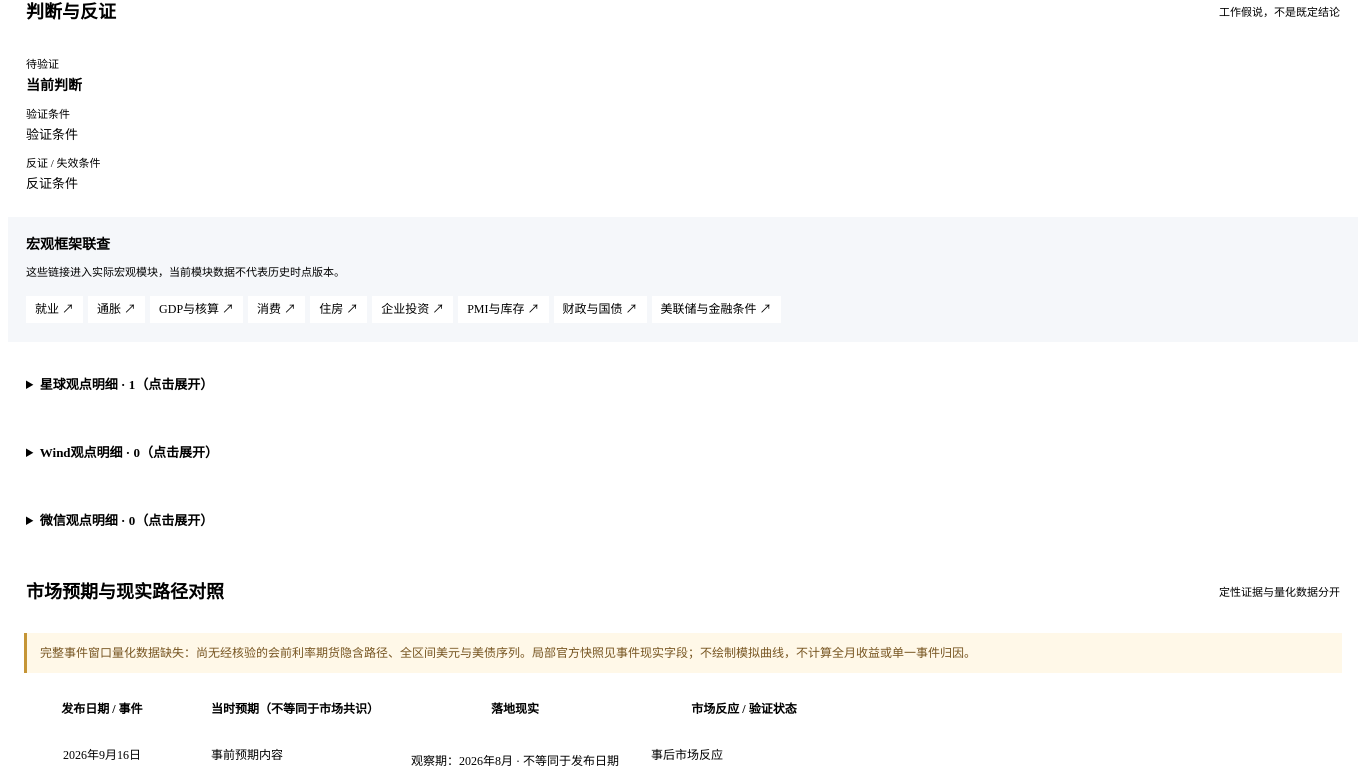
Test: 观点原始数值对象保留条件字段，不把条件情景对象写成确定预测
The width and height of the screenshot is (1366, 768).
(page scrolled)
Click the heading "星球观点明细 · 1（点击展开）" at (126, 384), box [40,377,213,392]
(page scrolled)
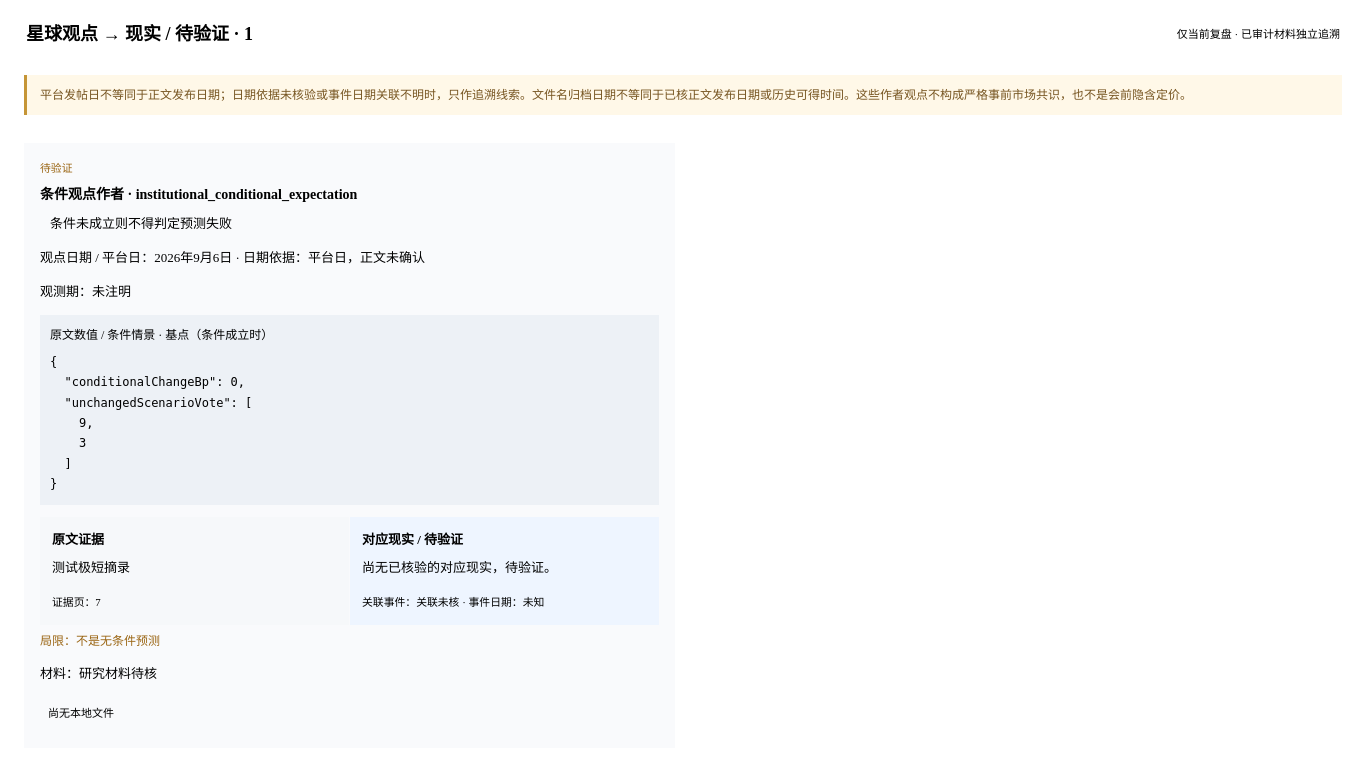
Expected: the element named "星球观点独立追溯" shows "\"conditionalChangeBp\": 0", [50,355,252,491]
Expected: the element named "星球观点独立追溯" shows "\"unchangedScenarioVote\"", [50,355,252,491]
Expected: the element named "星球观点独立追溯" shows "基点（条件成立时）", [165,328,273,342]
